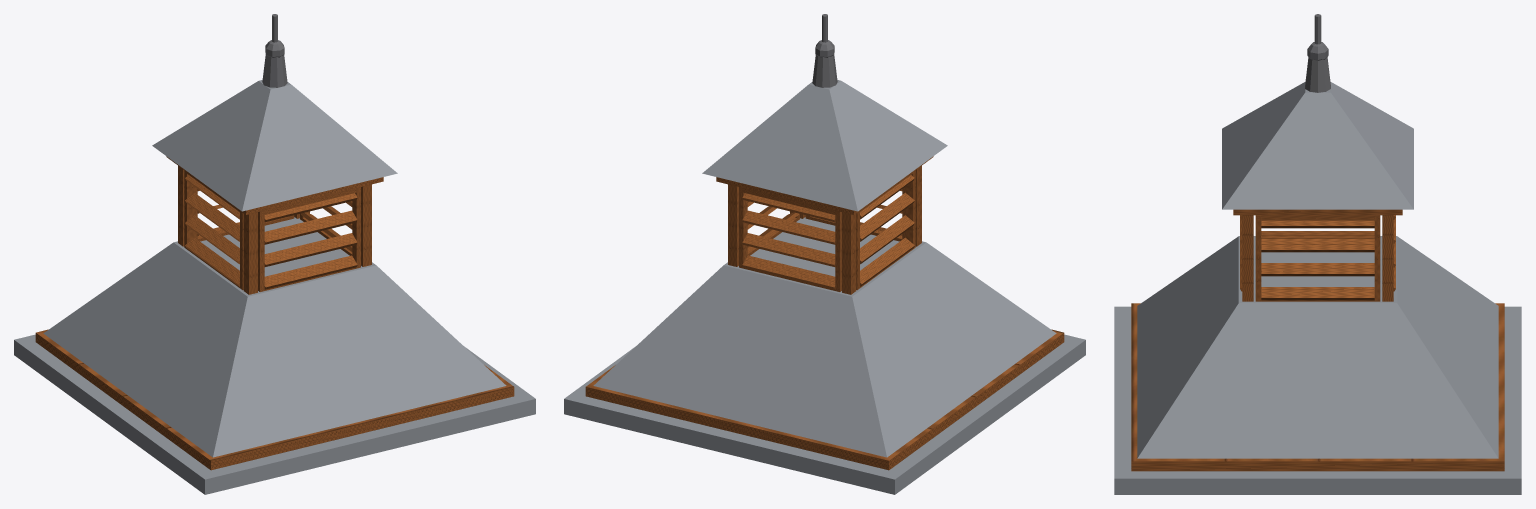
The model's file is roof-vent.glb.
The picture shows the model from 3 angles, left to right: view 1: azimuth 30°, elevation 25°; view 2: azimuth 150°, elevation 25°; view 3: azimuth 270°, elevation 25°; orthographic projection. The views are drawn at different scales.
Parts seen in each view (by area): view 1: pagoda-roof-vent-slate, pagoda-roof-vent-timber, pagoda-roof-vent-iron; view 2: pagoda-roof-vent-slate, pagoda-roof-vent-timber, pagoda-roof-vent-iron; view 3: pagoda-roof-vent-slate, pagoda-roof-vent-timber, pagoda-roof-vent-iron.
Part boxes in pixels (left/top/right/bottom): pagoda-roof-vent-slate: left=14, top=80, right=535, bottom=494; pagoda-roof-vent-timber: left=35, top=156, right=514, bottom=470; pagoda-roof-vent-iron: left=262, top=14, right=287, bottom=87; pagoda-roof-vent-slate: left=564, top=80, right=1085, bottom=494; pagoda-roof-vent-timber: left=585, top=156, right=1064, bottom=470; pagoda-roof-vent-iron: left=812, top=14, right=837, bottom=87; pagoda-roof-vent-slate: left=1114, top=81, right=1521, bottom=494; pagoda-roof-vent-timber: left=1131, top=209, right=1504, bottom=471; pagoda-roof-vent-iron: left=1305, top=14, right=1330, bottom=92.
Size of the model in its own units: 3.6 by 3.84 by 3.6.
3 materials, 1 textured.
